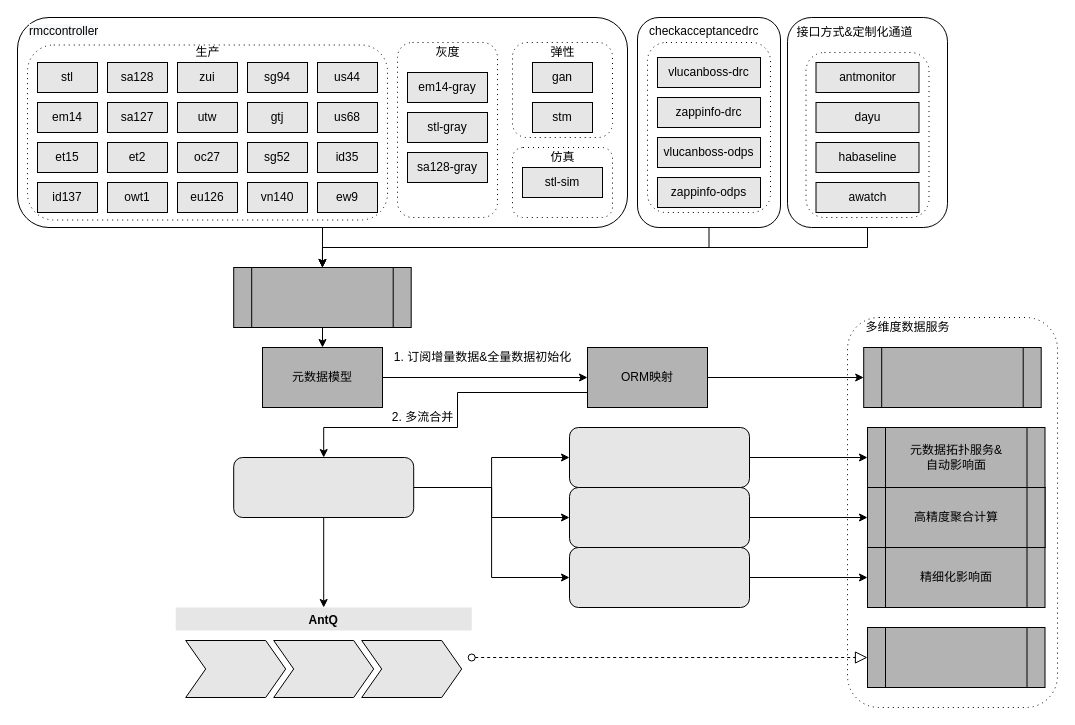
The diagram is 1075 pixels wide and 725 high, and some of its shapes have lost their labels. The shapes that lost their labels are listed below. From the top down, each one's centre as x and y in pixels, then its label:
At (322,297): "listener".
At (952,377): "元数据查询".
At (659,457): "拓扑链路自动查询".
At (323,487): "lindorm/oceanbase".
At (659,517): "聚合计算服务".
At (659,577): "视图维度影响面分析".
At (955,657): "增量同步".
